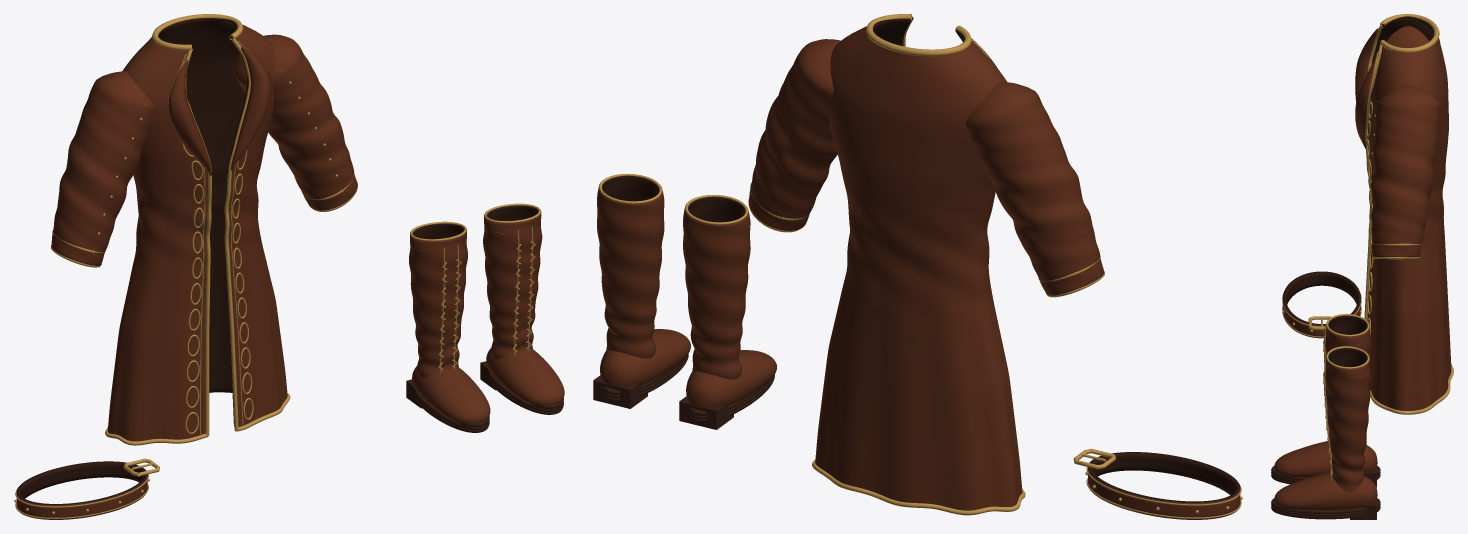
3 views of the same model, side by side, from view 1: azimuth 30°, elevation 25°; view 2: azimuth 150°, elevation 25°; view 3: azimuth 270°, elevation 25° (orthographic). The views are drawn at different scales.
Parts seen in each view (by area): view 1: TI041 / continuous fitted body, flared skirt and sculpted wa, TI041 / bent and wrinkled sleeve -1, TI041 / bent and wrinkled sleeve 1, TI041 / tapered calf shaft with ankle creases.001, TI041 / tapered calf shaft with ankle creases, TI041 / flat oval leather belt strap, TI041 / rounded toe, instep and heel counter.001, TI041 / rounded toe, instep and heel counter, TI041 / folded leather lapel.001, TI041 / folded leather lapel, TI041 / front embroidered piping 1, TI041 / front embroidered piping -1 (+2 smaller); view 2: TI041 / continuous fitted body, flared skirt and sculpted wa, TI041 / bent and wrinkled sleeve -1, TI041 / bent and wrinkled sleeve 1, TI041 / tapered calf shaft with ankle creases, TI041 / tapered calf shaft with ankle creases.001, TI041 / flat oval leather belt strap, TI041 / rounded toe, instep and heel counter.001, TI041 / rounded toe, instep and heel counter, TI041 / shaped gold collar, TI041 / curved embroidered hem, TI041 / rounded stacked heel, TI041 / rounded stacked heel.001; view 3: TI041 / continuous fitted body, flared skirt and sculpted wa, TI041 / bent and wrinkled sleeve 1, TI041 / tapered calf shaft with ankle creases.001, TI041 / rounded toe, instep and heel counter.001, TI041 / flat oval leather belt strap, TI041 / rounded toe, instep and heel counter, TI041 / tapered calf shaft with ankle creases, TI041 / folded leather lapel.001, TI041 / shaped gold collar, TI041 / bent and wrinkled sleeve -1, TI041 / folded leather lapel, TI041 / front embroidered piping 1 (+7 smaller).
Boxes of the visible parts, x1,y1,x2,y2 form: TI041 / continuous fitted body, flared skirt and sculpted wa: (107,18,287,441); TI041 / bent and wrinkled sleeve -1: (51,71,154,265); TI041 / bent and wrinkled sleeve 1: (233,34,357,210); TI041 / tapered calf shaft with ankle creases.001: (483,205,542,359); TI041 / tapered calf shaft with ankle creases: (409,223,467,377); TI041 / flat oval leather belt strap: (16,461,147,519); TI041 / rounded toe, instep and heel counter.001: (486,347,564,405); TI041 / rounded toe, instep and heel counter: (412,366,490,423); TI041 / folded leather lapel.001: (230,46,270,170); TI041 / folded leather lapel: (168,59,211,175); TI041 / front embroidered piping 1: (224,37,250,431); TI041 / front embroidered piping -1: (185,48,211,436); TI041 / continuous fitted body, flared skirt and sculpted wa: (815,18,1022,510); TI041 / bent and wrinkled sleeve -1: (965,82,1104,295); TI041 / bent and wrinkled sleeve 1: (748,39,840,230); TI041 / tapered calf shaft with ankle creases: (683,196,750,379); TI041 / tapered calf shaft with ankle creases.001: (597,175,664,358); TI041 / flat oval leather belt strap: (1088,452,1240,519); TI041 / rounded toe, instep and heel counter.001: (600,329,690,387); TI041 / rounded toe, instep and heel counter: (686,350,776,408); TI041 / shaped gold collar: (866,14,971,56); TI041 / curved embroidered hem: (812,460,1025,515); TI041 / rounded stacked heel: (679,396,733,429); TI041 / rounded stacked heel.001: (593,375,647,408); TI041 / continuous fitted body, flared skirt and sculpted wa: (1367,16,1451,410); TI041 / bent and wrinkled sleeve 1: (1371,85,1440,257); TI041 / tapered calf shaft with ankle creases.001: (1325,348,1371,492); TI041 / rounded toe, instep and heel counter.001: (1274,472,1377,509); TI041 / flat oval leather belt strap: (1282,271,1360,338); TI041 / rounded toe, instep and heel counter: (1274,441,1377,477); TI041 / tapered calf shaft with ankle creases: (1325,315,1371,366); TI041 / folded leather lapel.001: (1355,53,1378,148); TI041 / shaped gold collar: (1380,14,1439,52); TI041 / bent and wrinkled sleeve -1: (1386,26,1440,47); TI041 / folded leather lapel: (1355,29,1377,102); TI041 / front embroidered piping 1: (1364,44,1382,319).
Bounding box in the file's own units: 4.25 × 3.06 × 1.41.
